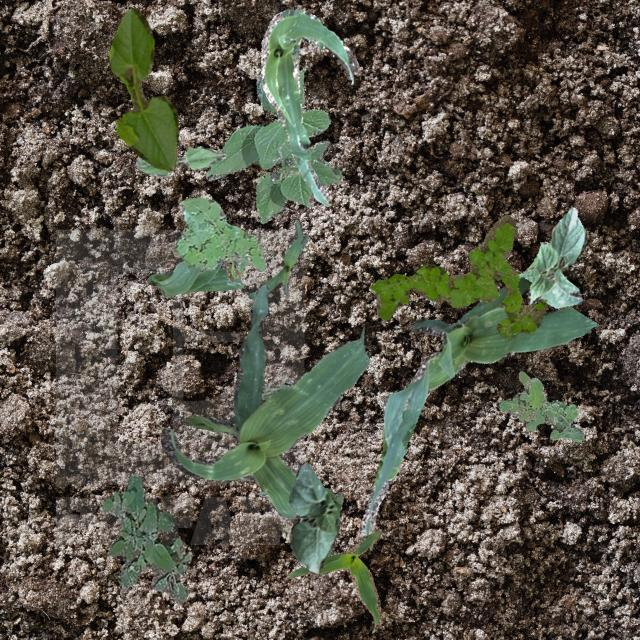crop: (360, 276, 598, 538), (160, 284, 368, 520), (206, 66, 342, 222), (260, 8, 358, 205), (108, 7, 178, 170), (286, 528, 381, 626), (516, 206, 586, 306), (258, 486, 342, 554), (288, 460, 336, 572), (248, 220, 308, 298), (148, 260, 242, 296), (134, 146, 224, 177)
weed: (368, 214, 546, 338), (98, 472, 190, 602), (172, 197, 266, 270), (498, 370, 582, 440), (260, 378, 292, 401), (223, 260, 243, 280)
